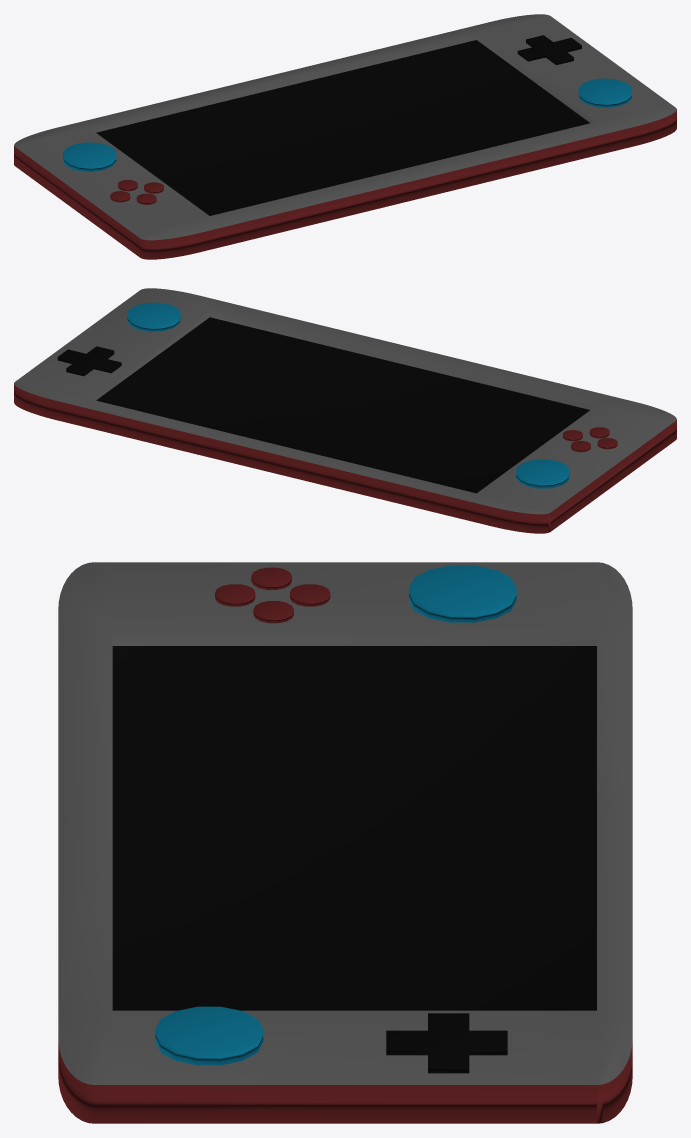
Rendered from console.fbx.
3 views of the same model, one above another, from view 1: azimuth 30°, elevation 25°; view 2: azimuth 150°, elevation 25°; view 3: azimuth 270°, elevation 25° (orthographic). The views are drawn at different scales.
Parts seen in each view (by area): view 1: Console; view 2: Console; view 3: Console.
Boxes of the visible parts, x1,y1,x2,y2 form: Console: (14, 14, 676, 259); Console: (14, 288, 676, 533); Console: (58, 562, 632, 1123).
Size of the model in its own units: 431 by 20.58 by 200.
